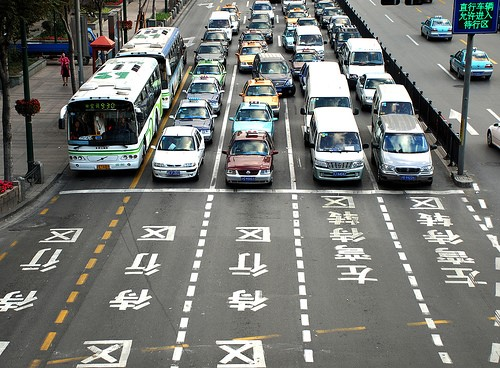HeavyVehicle: (65, 58, 158, 177)
LightVehicle: (371, 114, 435, 188), (307, 106, 365, 187), (153, 127, 208, 182), (225, 130, 274, 189)
